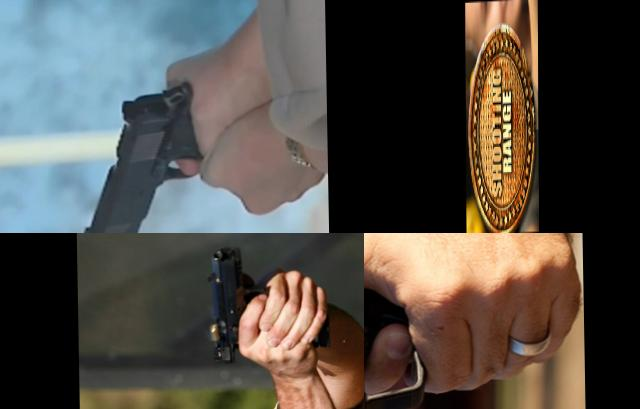handgun: (78, 75, 227, 233), (202, 239, 336, 368), (364, 233, 457, 409), (477, 0, 526, 83)
